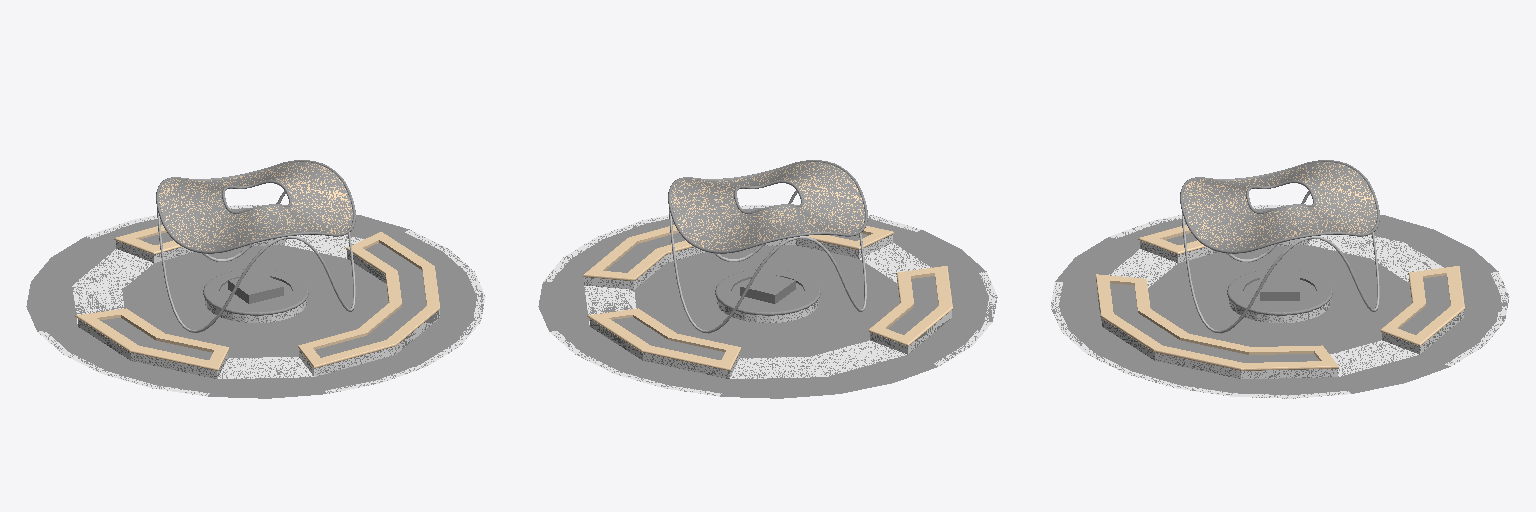
File: fuente.obj
3 views of the same model, side by side, from view 1: azimuth 30°, elevation 25°; view 2: azimuth 150°, elevation 25°; view 3: azimuth 270°, elevation 25° (orthographic).
Parts seen in each view (by area): view 1: ID211_ID972, ID37_ID787, ID302_ID871, ID256_ID927, ID111_ID1086, ID132_ID1068, ID286_ID889, ID161_ID1041, ID153_ID1050, ID219_ID963, ID6_ID815, ID310_ID862 (+9 smaller); view 2: ID211_ID972, ID37_ID787, ID302_ID871, ID256_ID927, ID111_ID1086, ID169_ID1032, ID132_ID1068, ID161_ID1041, ID153_ID1050, ID310_ID862, ID6_ID815, ID270_ID907 (+10 smaller); view 3: ID211_ID972, ID37_ID787, ID302_ID871, ID256_ID927, ID111_ID1086, ID132_ID1068, ID286_ID889, ID169_ID1032, ID153_ID1050, ID219_ID963, ID6_ID815, ID278_ID898 (+10 smaller).
Part boxes in pixels (x1,y1,x2,y2): ID211_ID972: (35, 208, 476, 394); ID37_ID787: (159, 162, 352, 250); ID302_ID871: (122, 245, 387, 357); ID256_ID927: (160, 261, 351, 341); ID111_ID1086: (72, 235, 439, 378); ID132_ID1068: (298, 232, 439, 368); ID286_ID889: (315, 243, 426, 357); ID161_ID1041: (75, 308, 229, 370); ID153_ID1050: (203, 269, 308, 315); ID219_ID963: (325, 230, 485, 393); ID6_ID815: (157, 190, 355, 332); ID310_ID862: (85, 257, 138, 313); ID211_ID972: (547, 208, 988, 394); ID37_ID787: (671, 162, 864, 250); ID302_ID871: (634, 245, 899, 357); ID256_ID927: (672, 261, 863, 341); ID111_ID1086: (584, 235, 951, 378); ID169_ID1032: (587, 308, 741, 370); ID132_ID1068: (583, 225, 893, 280); ID161_ID1041: (868, 266, 952, 345); ID153_ID1050: (715, 269, 820, 315); ID310_ID862: (744, 347, 886, 373); ID6_ID815: (669, 190, 866, 333); ID270_ID907: (888, 276, 938, 334); ID211_ID972: (1059, 208, 1500, 394); ID37_ID787: (1183, 162, 1376, 250); ID302_ID871: (1148, 245, 1411, 353); ID256_ID927: (1184, 261, 1375, 341); ID111_ID1086: (1096, 235, 1463, 378); ID132_ID1068: (1096, 274, 1338, 370); ID286_ID889: (1110, 283, 1319, 362); ID169_ID1032: (1380, 266, 1464, 345); ID153_ID1050: (1227, 269, 1332, 315); ID219_ID963: (1050, 282, 1350, 398); ID6_ID815: (1182, 191, 1379, 333); ID278_ID898: (1399, 275, 1450, 334).
Size of the model in its own units: 22.75 by 7 by 22.75.